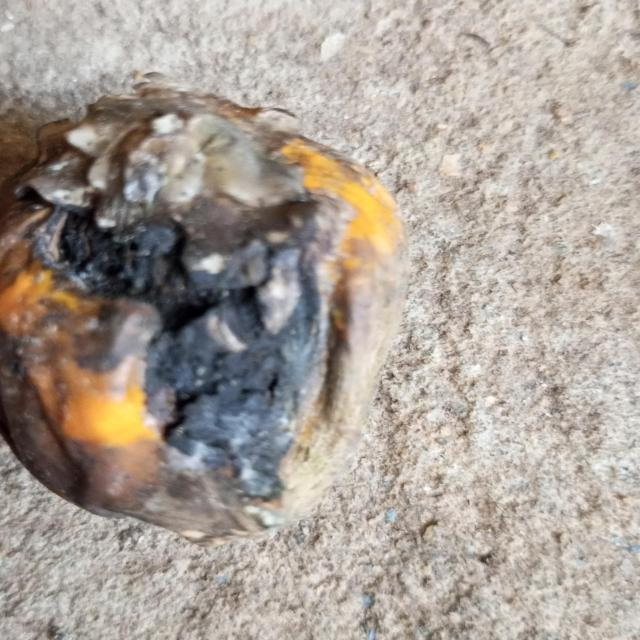damaged: (0, 77, 410, 546)
